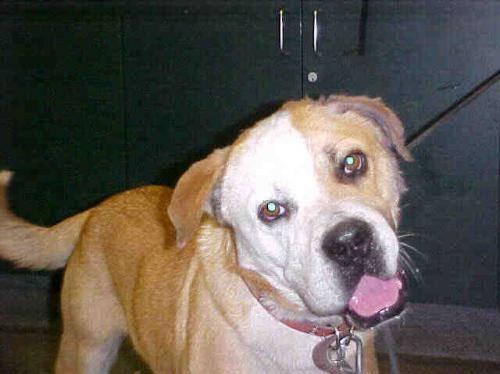dog: (54, 97, 415, 374)
